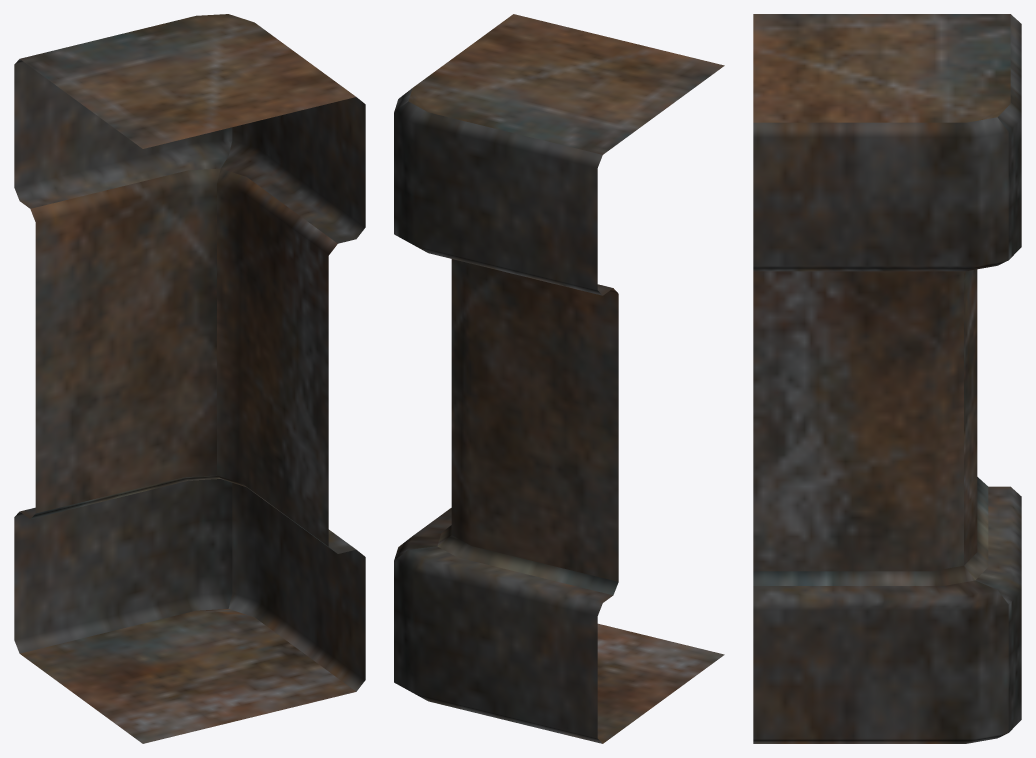
File: Beam_Corner.glb
3 views of the same model, side by side, from view 1: azimuth 30°, elevation 25°; view 2: azimuth 150°, elevation 25°; view 3: azimuth 270°, elevation 25° (orthographic). The views are drawn at different scales.
Parts seen in each view (by area): view 1: Beam_Corner; view 2: Beam_Corner; view 3: Beam_Corner.
Boxes of the visible parts, x1,y1,x2,y2 form: Beam_Corner: (14,14,365,743); Beam_Corner: (394,14,724,743); Beam_Corner: (753,14,1021,743).
Size of the model in its own units: 0.1532 by 0.391 by 0.1532.
2 materials, 2 textured.
